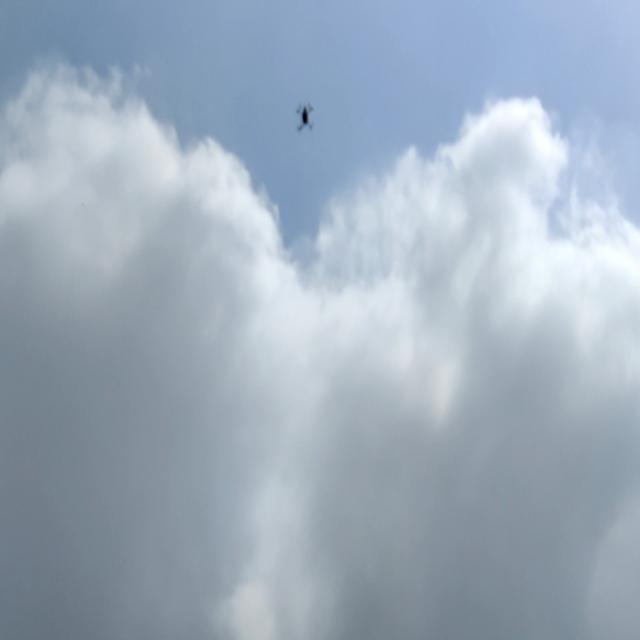drone: (294, 102, 318, 135)
